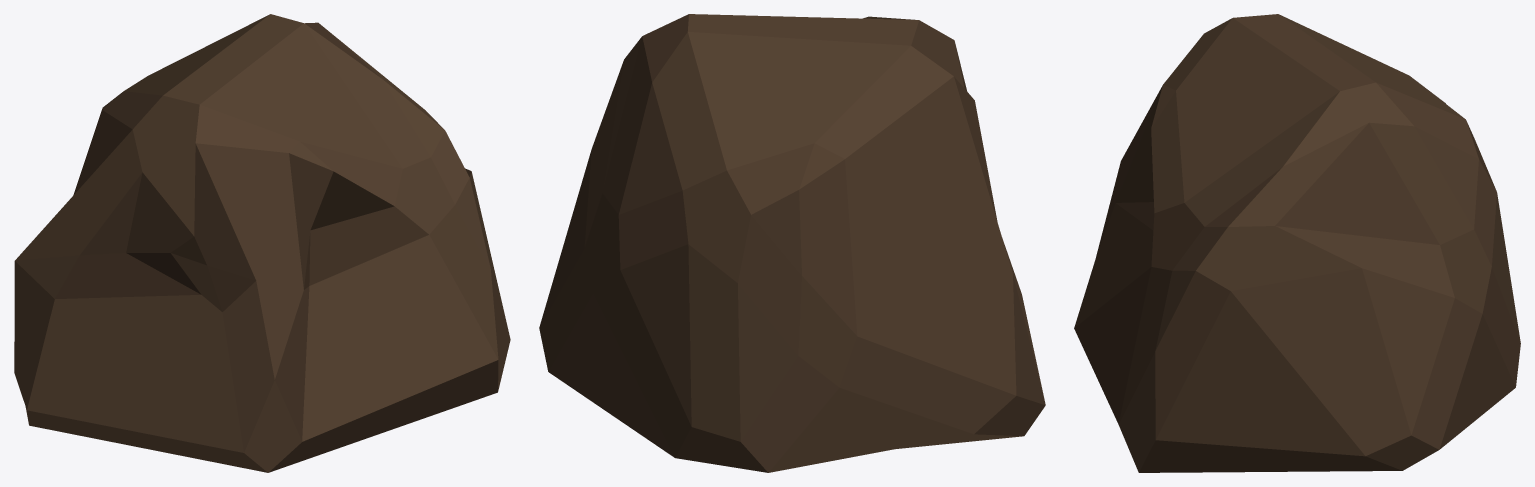
The model's file is Rock_10_Dark_Brown.fbx.
3 views of the same model, side by side, from view 1: azimuth 30°, elevation 25°; view 2: azimuth 150°, elevation 25°; view 3: azimuth 270°, elevation 25° (orthographic). The views are drawn at different scales.
Visible parts, largest first — view 1: Rock_10_Dark_Brown; view 2: Rock_10_Dark_Brown; view 3: Rock_10_Dark_Brown.
Part boxes in pixels (x1,y1,x2,y2): Rock_10_Dark_Brown: (14, 14, 510, 472); Rock_10_Dark_Brown: (539, 14, 1045, 472); Rock_10_Dark_Brown: (1074, 14, 1520, 472).
Bounding box in the file's own units: 145 × 107 × 130.
